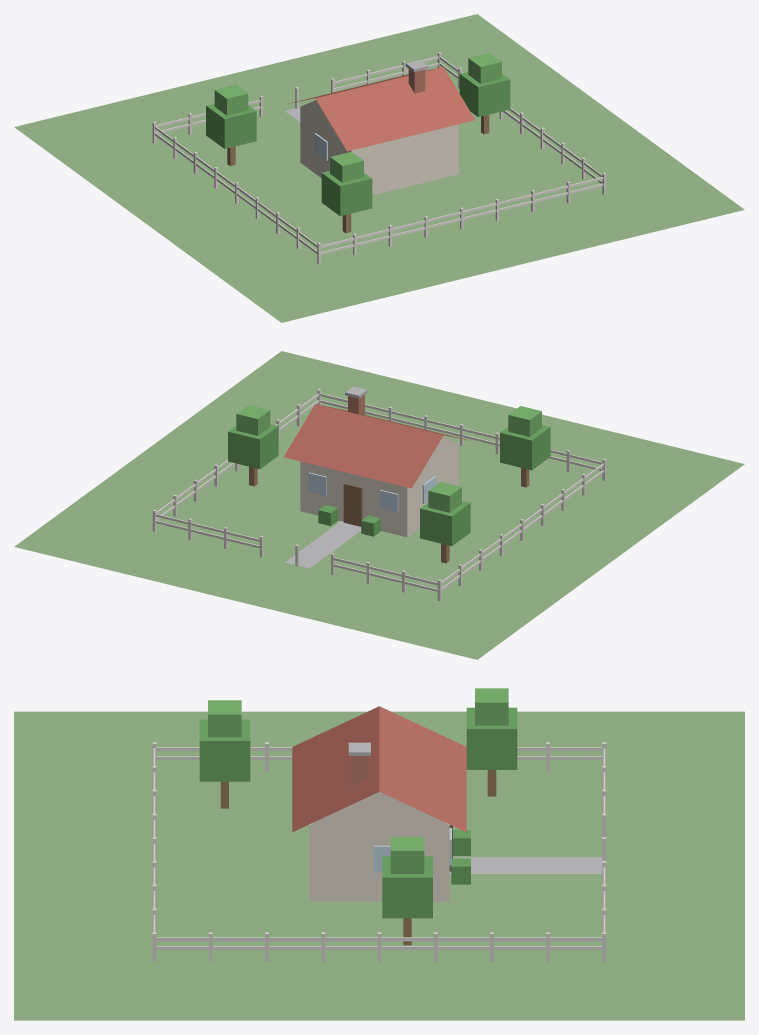
The model's file is House.gltf.
The picture shows the model from 3 angles, top to bottom: view 1: azimuth 30°, elevation 25°; view 2: azimuth 150°, elevation 25°; view 3: azimuth 270°, elevation 25°; orthographic projection. The views are drawn at different scales.
Parts seen in each view (by area): view 1: house; view 2: house; view 3: house.
Part boxes in pixels (bbox=[...]): house: bbox=[14, 14, 744, 322]; house: bbox=[14, 351, 744, 659]; house: bbox=[14, 688, 744, 1020].
Size of the model in its own units: 26 by 5.45 by 26.
